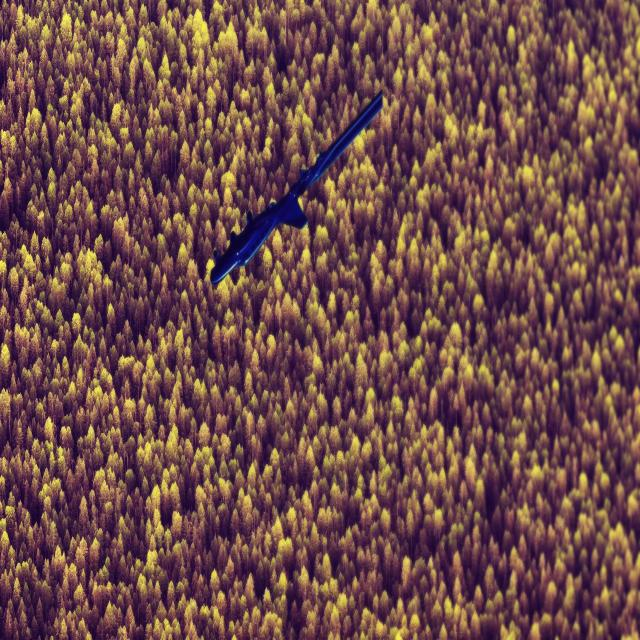airplane: (208, 88, 384, 285)
